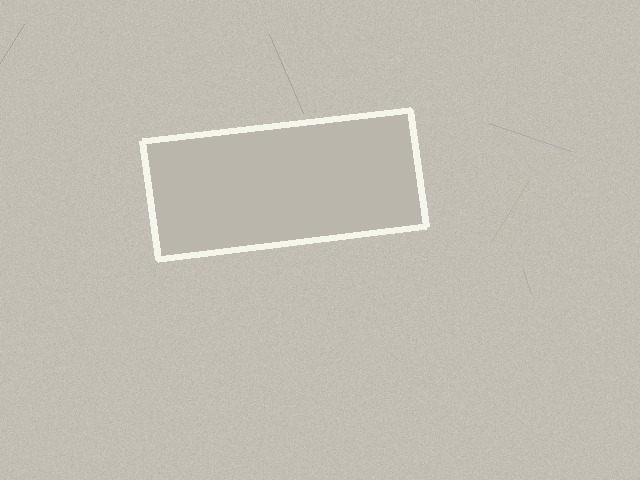parking_area: (142, 110, 426, 259)
